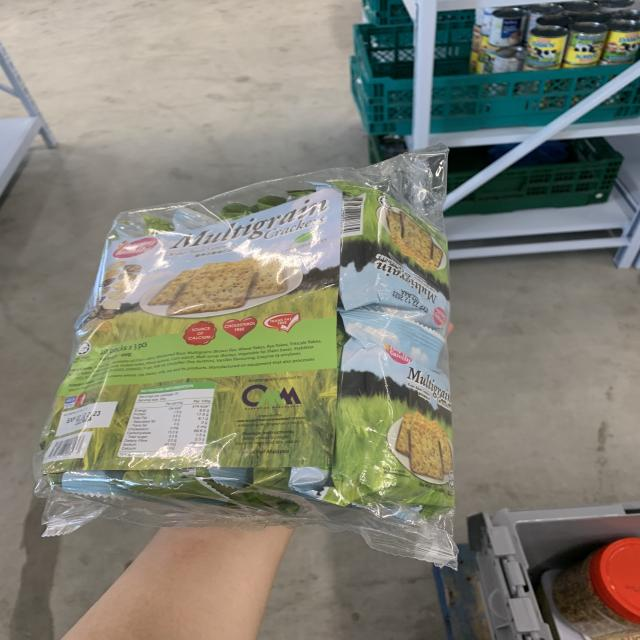object_name: (72, 180, 451, 542)
